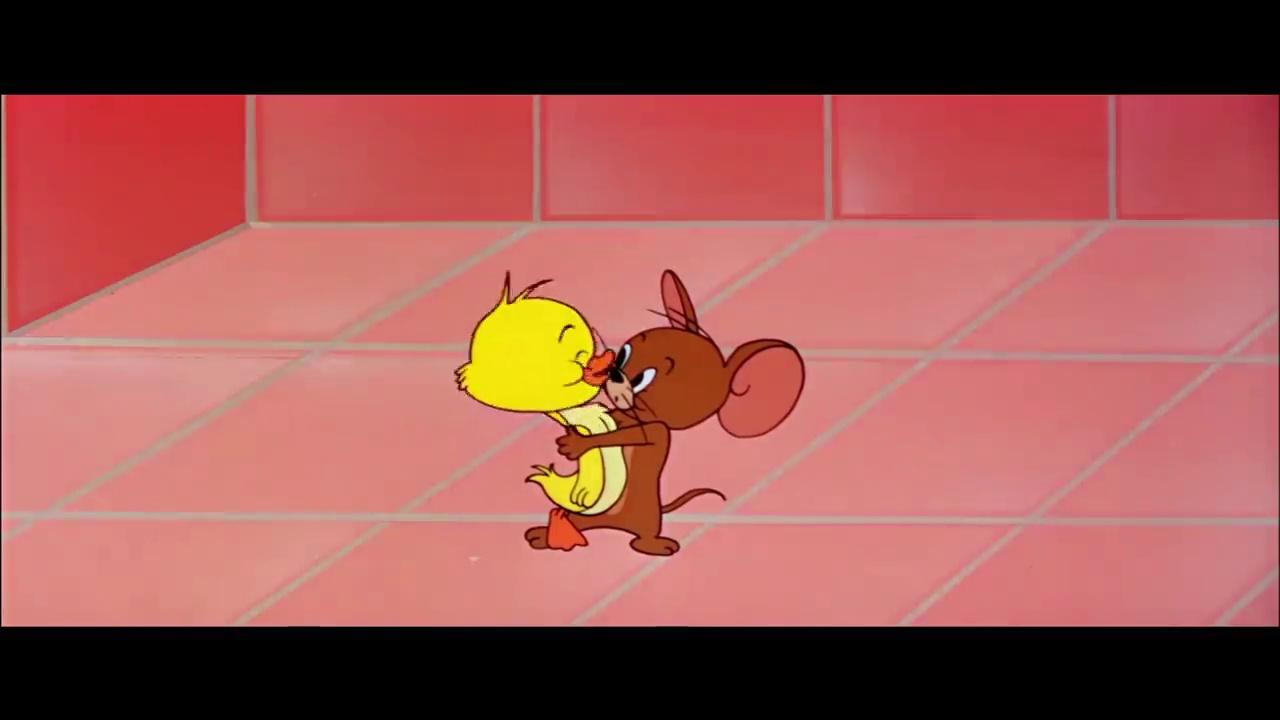Jerry: (524, 267, 807, 558)
